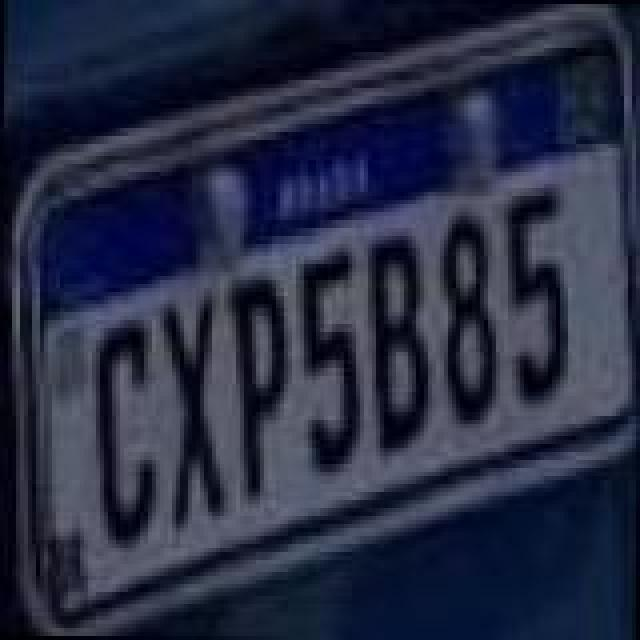5: (498, 184, 574, 408), (292, 246, 364, 474)
8: (438, 210, 506, 426)
B: (364, 234, 436, 458)
C: (88, 314, 164, 550)
P: (218, 274, 290, 506)
X: (156, 296, 232, 532)
